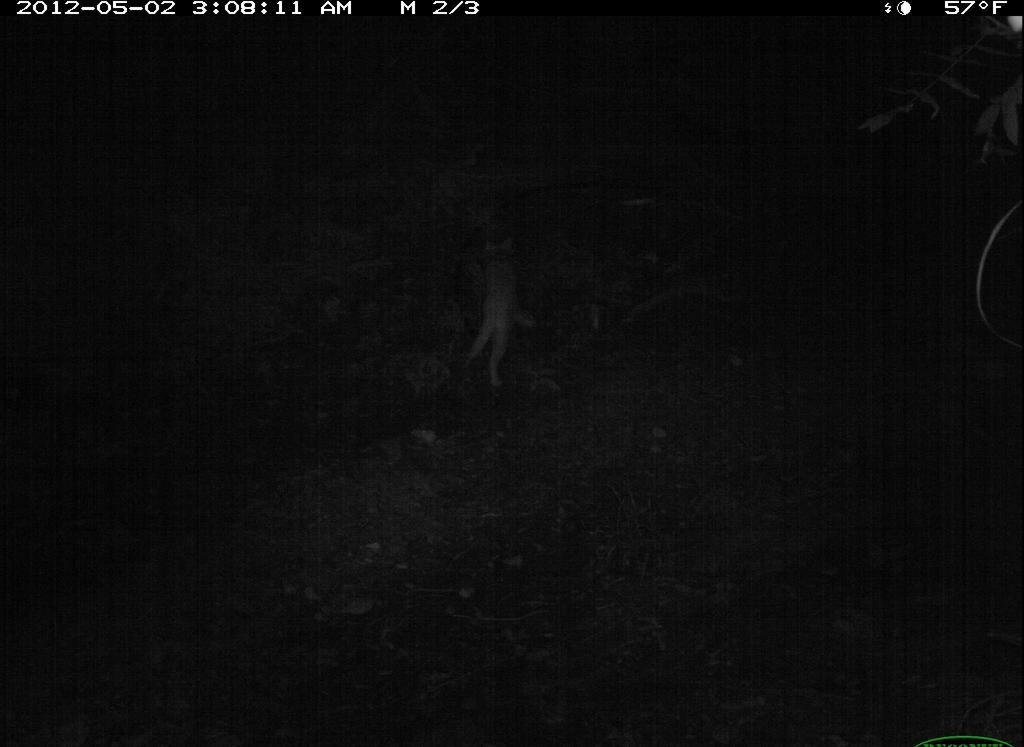cat: (447, 222, 542, 405)
